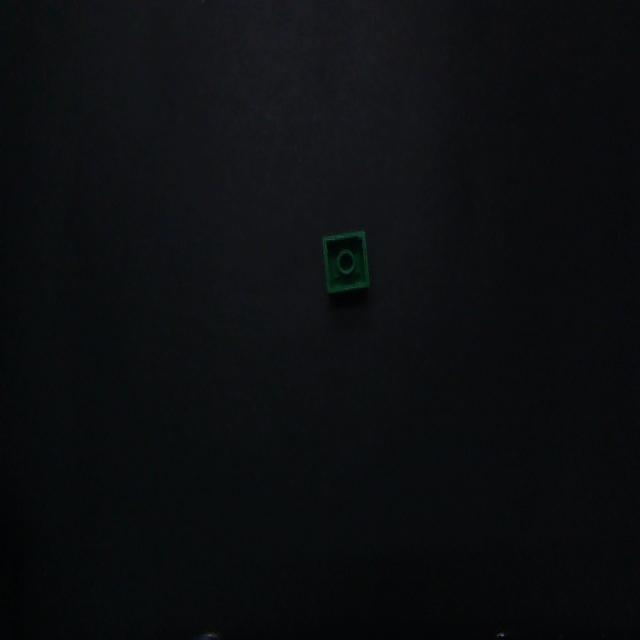lego_brick: (323, 231, 369, 293)
